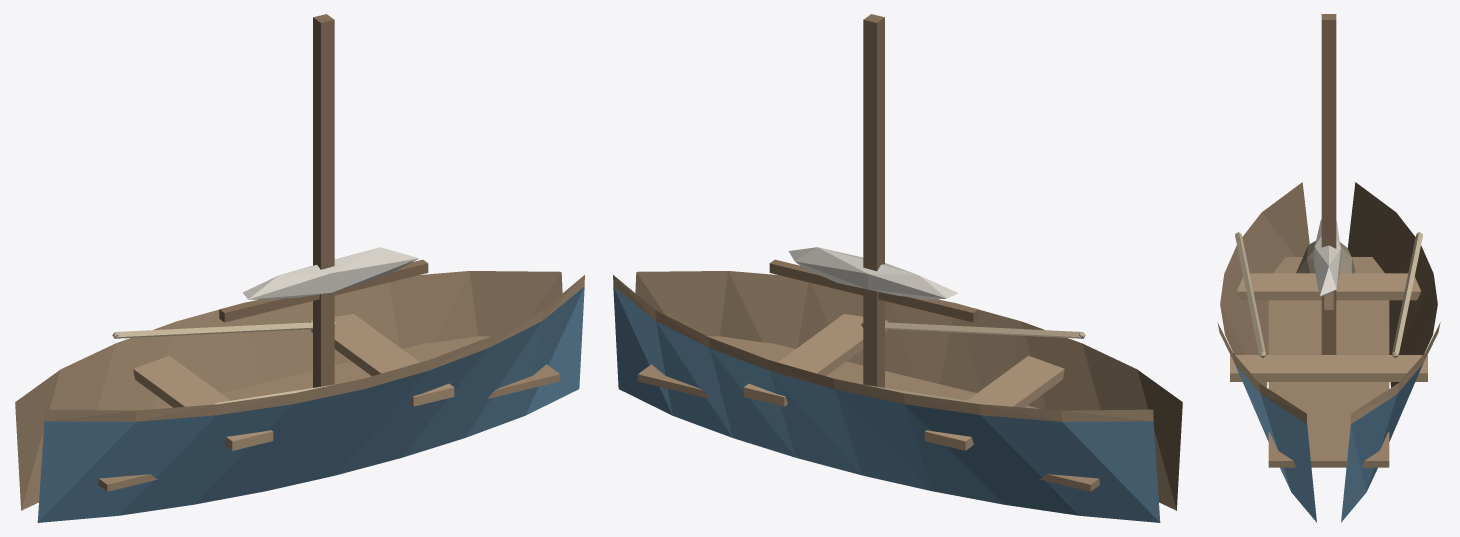
Rendered from boat0.glb.
The picture shows the model from 3 angles, left to right: view 1: azimuth 30°, elevation 25°; view 2: azimuth 150°, elevation 25°; view 3: azimuth 270°, elevation 25°; orthographic projection. The views are drawn at different scales.
Visible parts, largest first — view 1: boat0; view 2: boat0; view 3: boat0.
Part boxes in pixels (x1=…): boat0: x1=15, y1=14, x2=584, y2=522; boat0: x1=613, y1=14, x2=1182, y2=522; boat0: x1=1217, y1=14, x2=1440, y2=522.
Bounding box in the file's own units: 4.8 × 3.6 × 1.94.
